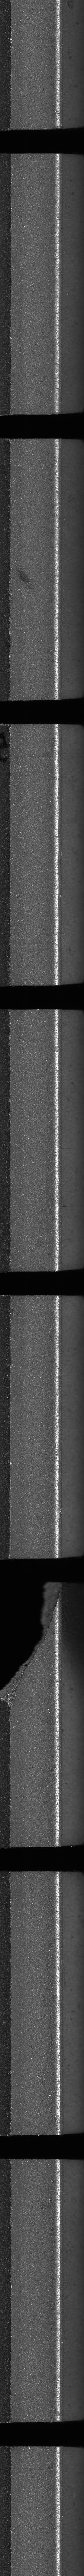Chip: (0, 1581, 62, 1706)
